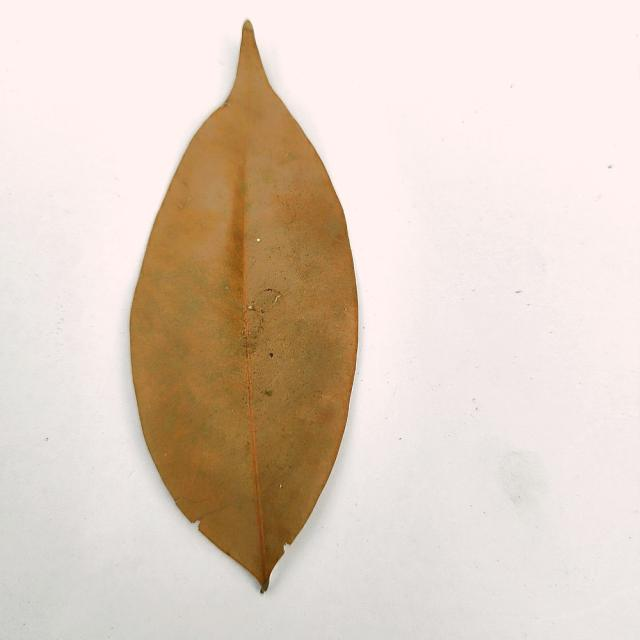Dry_Leaf-Lychee: (128, 22, 360, 590)
